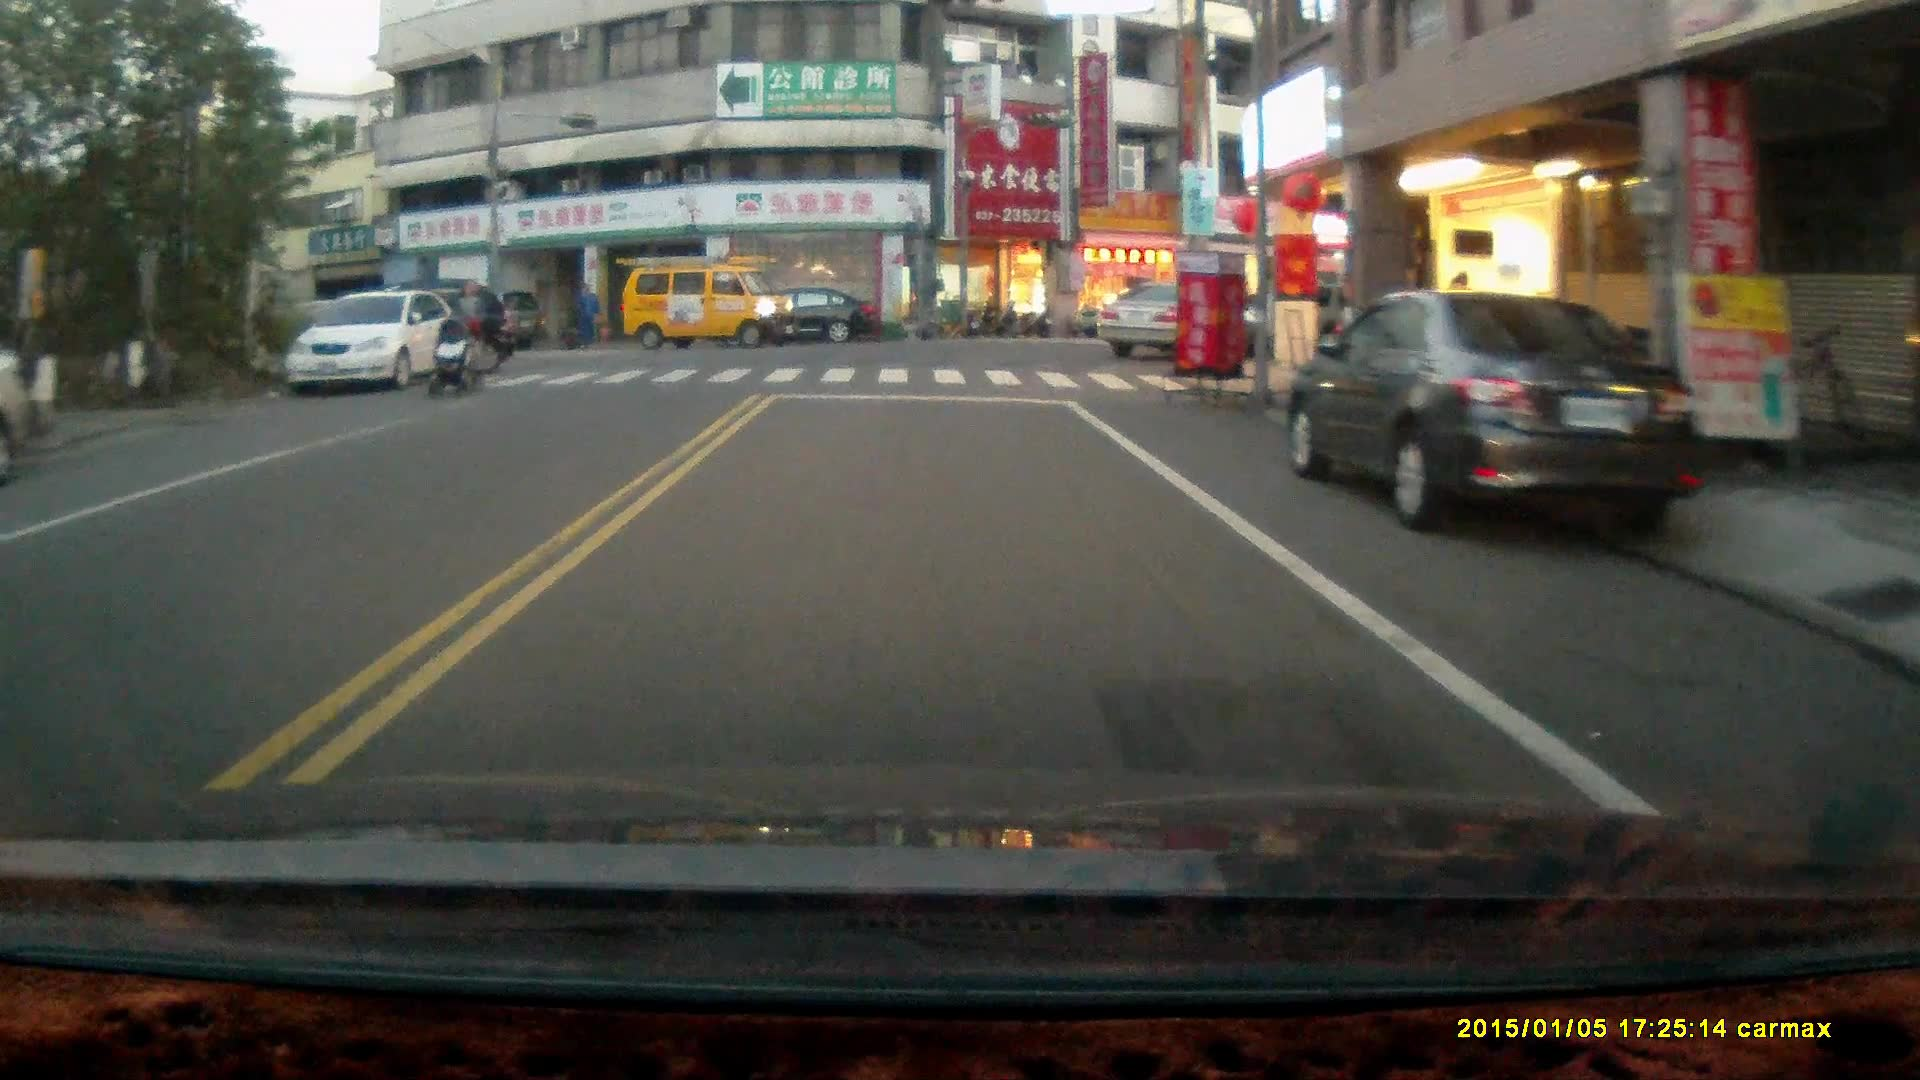pedestrian: (454, 276, 483, 373), (573, 281, 600, 348)
rider: (421, 316, 483, 399)
vehicle: (1287, 291, 1696, 538), (302, 280, 520, 377), (288, 290, 467, 397), (624, 255, 796, 349), (1095, 281, 1239, 360), (409, 286, 545, 361), (738, 286, 883, 351)
